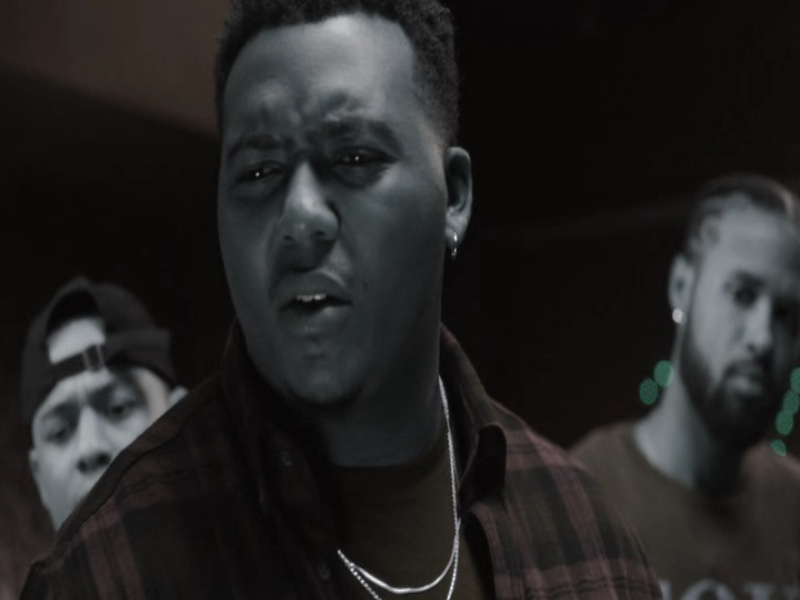TsisyArotava: (200, 1, 464, 425), (675, 168, 800, 466)
